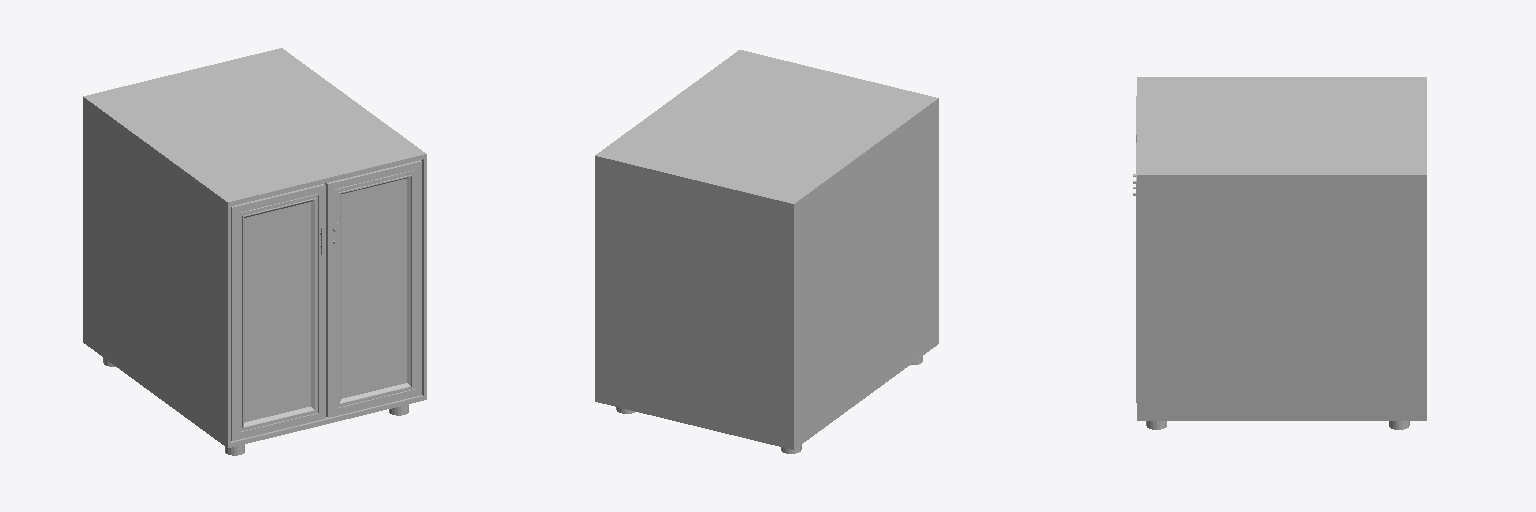
Rendered from Closet.obj.
3 views of the same model, side by side, from view 1: azimuth 30°, elevation 25°; view 2: azimuth 150°, elevation 25°; view 3: azimuth 270°, elevation 25° (orthographic).
Parts seen in each view (by area): view 1: Body_Plane.001, Cover_Right_Plane.003, Cover_Left_Plane.002; view 2: Body_Plane.001; view 3: Body_Plane.001.
Part boxes in pixels (x1,y1,x2,y2): Body_Plane.001: (83, 48, 426, 455); Cover_Right_Plane.003: (326, 160, 421, 417); Cover_Left_Plane.002: (231, 184, 325, 440); Body_Plane.001: (595, 50, 938, 453); Body_Plane.001: (1137, 77, 1426, 429).
Size of the model in its own units: 0.8807 by 1.1 by 1.13.